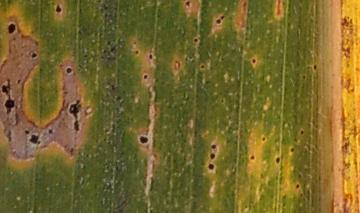tarspot: (67, 98, 83, 133), (1, 78, 15, 115), (6, 20, 17, 36), (135, 133, 149, 145), (28, 134, 41, 146), (5, 129, 13, 142), (54, 3, 62, 15), (63, 67, 74, 75), (191, 36, 200, 45), (206, 162, 215, 171), (29, 51, 39, 59), (273, 155, 281, 165), (247, 154, 255, 162), (208, 152, 216, 160), (46, 128, 55, 135), (210, 142, 217, 151), (69, 146, 75, 156), (148, 52, 154, 62), (250, 56, 256, 66), (142, 73, 149, 81), (184, 1, 191, 9), (110, 45, 118, 52), (260, 135, 267, 142), (294, 182, 300, 190), (23, 129, 30, 135), (219, 14, 225, 21), (16, 77, 21, 85), (199, 64, 204, 72), (312, 63, 317, 71), (289, 147, 295, 153), (115, 95, 121, 101), (111, 82, 115, 91), (134, 49, 139, 56), (214, 19, 221, 24), (299, 129, 304, 135), (102, 48, 107, 54), (106, 41, 111, 45)
